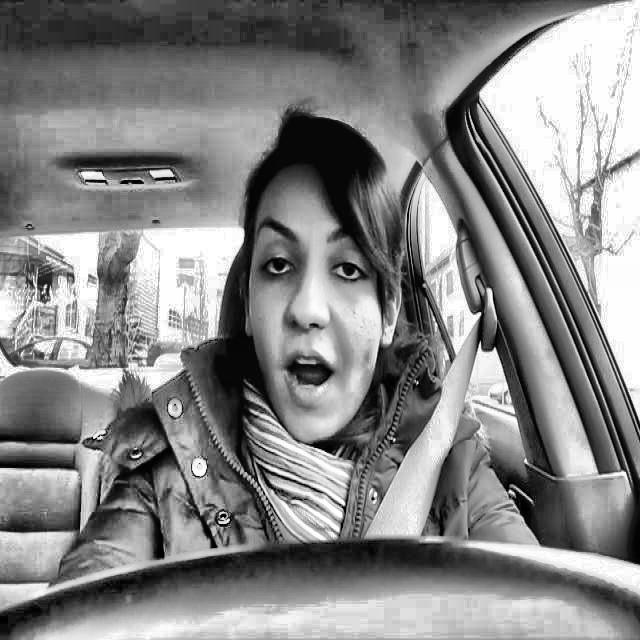open_eyes: (246, 237, 304, 291), (315, 251, 376, 297)
open_mouth: (268, 339, 354, 410)
